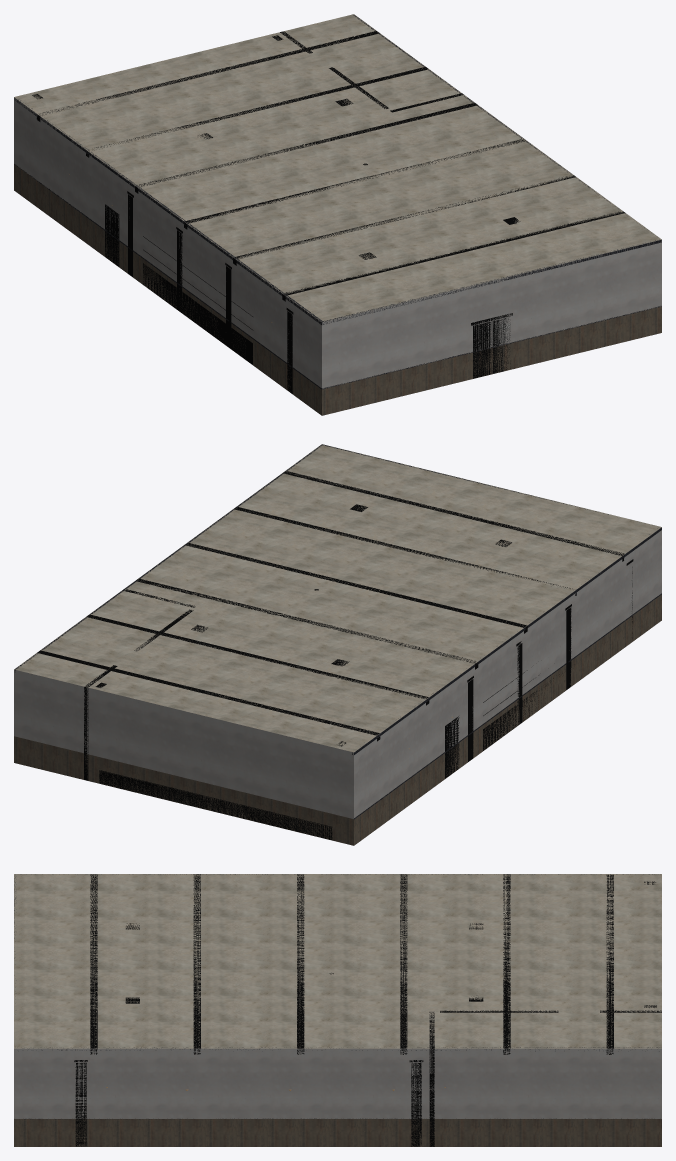
The model's file is env_club.glb.
The picture shows the model from 3 angles, top to bottom: view 1: azimuth 30°, elevation 25°; view 2: azimuth 150°, elevation 25°; view 3: azimuth 270°, elevation 25°; orthographic projection. The views are drawn at different scales.
Parts seen in each view (by area): view 1: SHELL, PROPS; view 2: SHELL, PROPS; view 3: SHELL, PROPS.
Boxes of the visible parts, <box> form: SHELL: <box>14,14,661,415</box>; PROPS: <box>32,31,624,393</box>; SHELL: <box>14,444,661,845</box>; PROPS: <box>37,471,633,840</box>; SHELL: <box>14,874,661,1146</box>; PROPS: <box>74,874,661,1146</box>.
Size of the model in its own units: 16.04 by 4.2 by 25.1.
10 materials, 6 textured.
